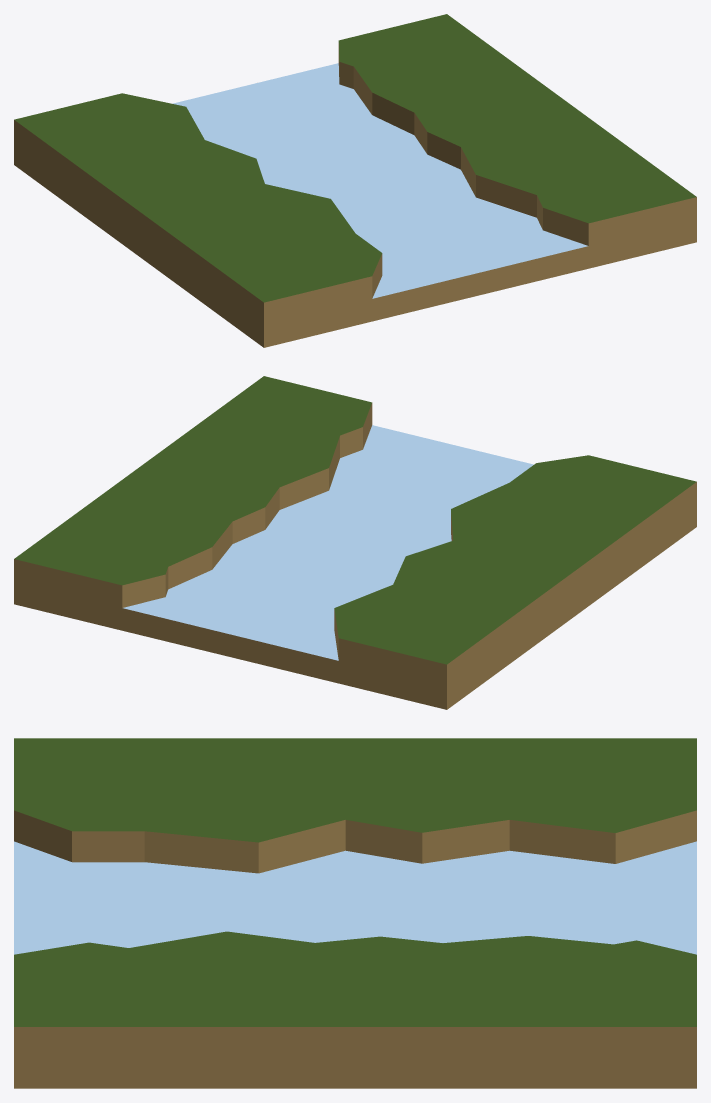
Rendered from Terrain_Modular_Tiles_Grass_Dirt_River_Straight_02.fbx.
3 renders of one model, top to bottom at view 1: azimuth 30°, elevation 25°; view 2: azimuth 150°, elevation 25°; view 3: azimuth 270°, elevation 25°, orthographic. The views are drawn at different scales.
Visible parts, largest first — view 1: Terrain_Modular_Tiles_Grass_Dirt_River_Straight_02; view 2: Terrain_Modular_Tiles_Grass_Dirt_River_Straight_02; view 3: Terrain_Modular_Tiles_Grass_Dirt_River_Straight_02.
Part boxes in pixels (x1=…): Terrain_Modular_Tiles_Grass_Dirt_River_Straight_02: x1=14, y1=14, x2=696, y2=347; Terrain_Modular_Tiles_Grass_Dirt_River_Straight_02: x1=14, y1=376, x2=696, y2=709; Terrain_Modular_Tiles_Grass_Dirt_River_Straight_02: x1=14, y1=738, x2=696, y2=1088.
Size of the model in its own units: 118 by 11.81 by 118.
